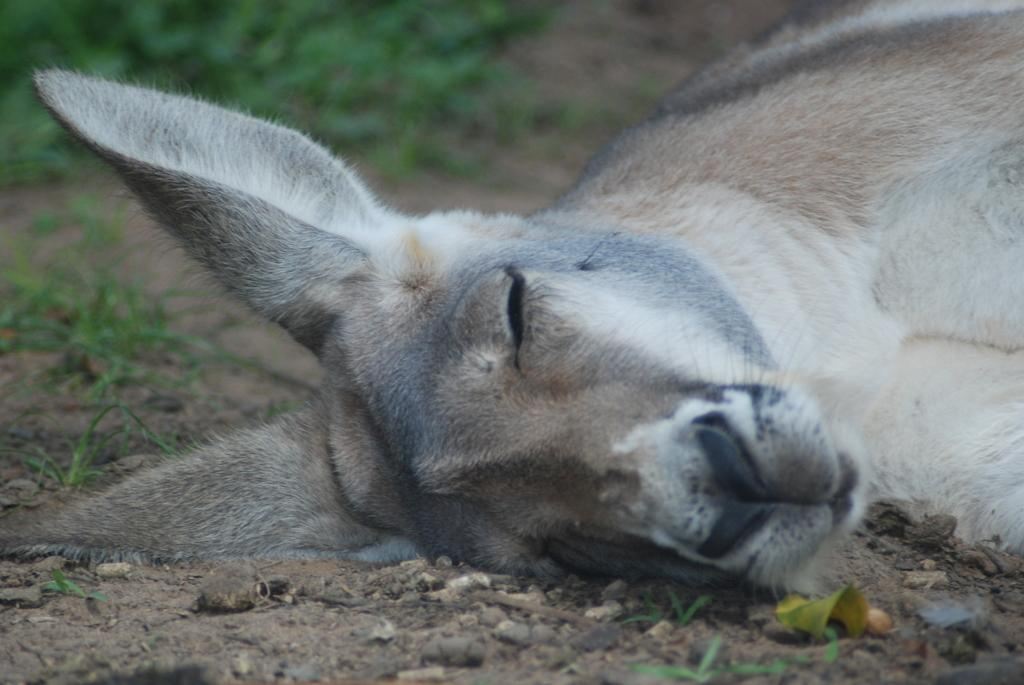kangaroo: (0, 0, 1023, 621)
